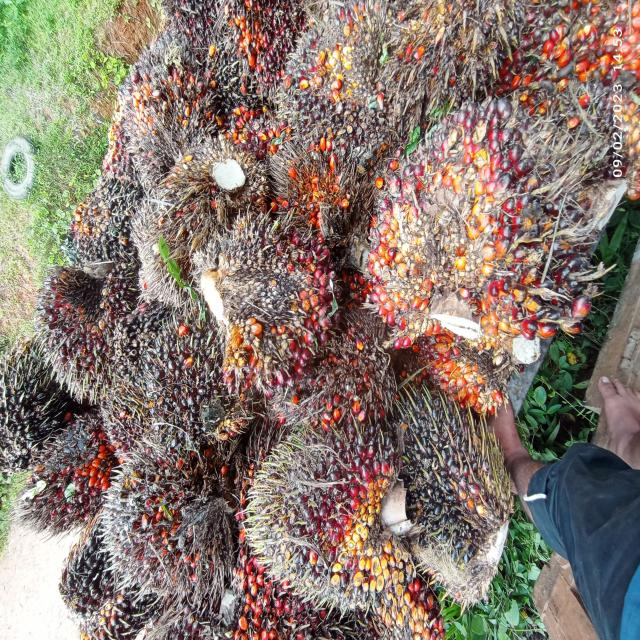fraksi 00: (388, 381, 528, 606), (102, 284, 224, 466), (266, 9, 387, 137), (40, 530, 153, 640), (0, 340, 76, 490), (54, 168, 147, 275)
fraksi 1: (358, 84, 583, 366), (233, 416, 412, 624), (192, 206, 351, 393), (27, 263, 122, 419)
fraksi 3: (14, 430, 128, 528)
fraksi 4: (88, 440, 228, 599), (269, 126, 362, 243)
